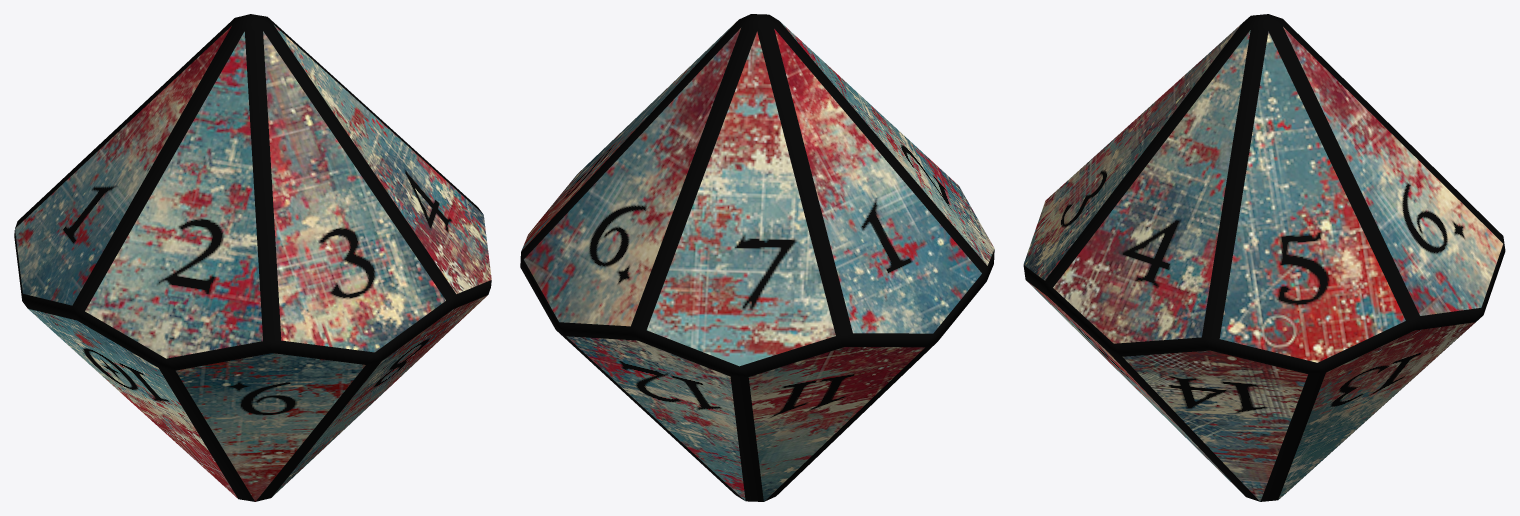
The model's file is chanced14.glb.
3 views of the same model, side by side, from view 1: azimuth 30°, elevation 25°; view 2: azimuth 150°, elevation 25°; view 3: azimuth 270°, elevation 25° (orthographic).
Visible parts, largest first — view 1: Mesh_0; view 2: Mesh_0; view 3: Mesh_0.
Boxes of the visible parts, <box> form: Mesh_0: <box>14,14,491,501</box>; Mesh_0: <box>520,14,994,501</box>; Mesh_0: <box>1023,14,1505,501</box>.
Size of the model in its own units: 152 by 175 by 157.
1 material, 1 textured.
